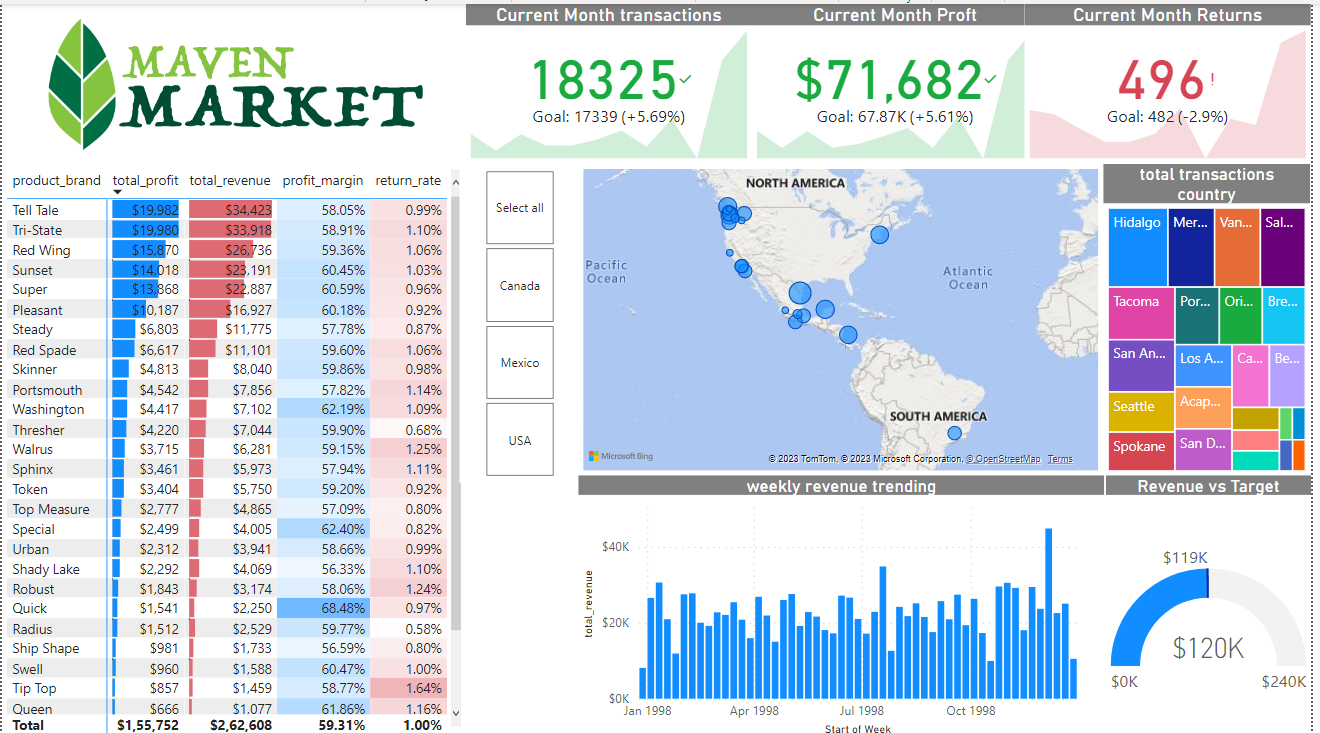

What the dashboard file says about the page in this screenshot:
{"tool":"powerbi","page":{"name":"Topline Performance","canvas":[1280,720],"ordinal":0},"visuals":[{"type":"image","box":[0,0,453.5,156.5],"z":0},{"type":"pivotTable","fields":{"Rows":["Products.product_brand"],"Values":["Transactions_data.total_profit","Transactions_data.total_revenue","Transactions_data.profit_margin","Returns_Data.return_rate"]},"box":[0,156.5,453.5,563.5],"z":1000},{"type":"kpi","title":"Current Month transactions","fields":{"Indicator":["Transactions_data.total_transactions"],"TrendLine":["Calendar.Start of Month"],"Goal":["Transactions_data.last_month_transactions"]},"box":[453.2,0,280.2,156.6],"z":2000},{"type":"kpi","title":"Current Month Proft","fields":{"TrendLine":["Calendar.Start of Month"],"Indicator":["Transactions_data.total_profit"],"Goal":["Transactions_data.last_month_profit"]},"box":[733.4,0,280.2,156.6],"z":3000},{"type":"kpi","title":"Current Month Returns","fields":{"TrendLine":["Calendar.Start of Month"],"Indicator":["Returns_Data.total_returns"],"Goal":["Returns_Data.last_month_returns"]},"box":[999.8,0,280.2,156.6],"z":4000},{"type":"map","fields":{"Size":["Transactions_data.total_transactions"],"Category":["Stores.store_city"]},"box":[563.8,156.2,513.8,305],"z":5000},{"type":"slicer","fields":{"Values":["Stores.store_country"]},"box":[447.5,156.2,116.2,312],"z":6000},{"type":"treemap","title":"total transactions country","fields":{"Values":["Transactions_data.total_transactions"],"Group":["Stores.store_country","Stores.store_state","Stores.store_city"]},"box":[1077.5,156.2,202.5,305],"z":7000},{"type":"columnChart","title":"weekly revenue trending","fields":{"Y":["Transactions_data.total_revenue"],"Category":["Calendar.Start of Week"]},"box":[563.5,460.8,514.6,259.2],"z":8000},{"type":"gauge","title":"Revenue vs Target","fields":{"Y":["Transactions_data.total_revenue"],"TargetValue":["Transactions_data.revenue_target"]},"box":[1079,461,201,259],"z":9000}]}

Visuals, with their boxes in screenshot pixels (x1, y1, x2, y2), scaled from the page's 1280x720 canvas onto the 1320x733 screenshot:
image: [left=0, top=0, right=468, bottom=159]
pivotTable - Products.product_brand x Transactions_data.total_profit: [left=0, top=159, right=468, bottom=732]
"Current Month transactions" kpi: [left=467, top=0, right=756, bottom=159]
"Current Month Proft" kpi: [left=756, top=0, right=1045, bottom=159]
"Current Month Returns" kpi: [left=1031, top=0, right=1319, bottom=159]
map - Transactions_data.total_transactions x Stores.store_city: [left=581, top=159, right=1111, bottom=470]
slicer - Stores.store_country: [left=461, top=159, right=581, bottom=477]
"total transactions country" treemap: [left=1111, top=159, right=1319, bottom=470]
"weekly revenue trending" columnChart: [left=581, top=469, right=1112, bottom=732]
"Revenue vs Target" gauge: [left=1113, top=469, right=1319, bottom=732]
